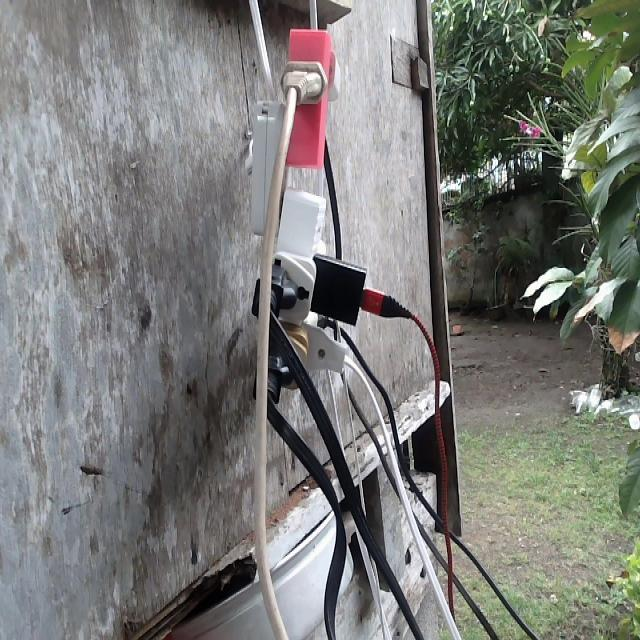-: (246, 20, 376, 403)
